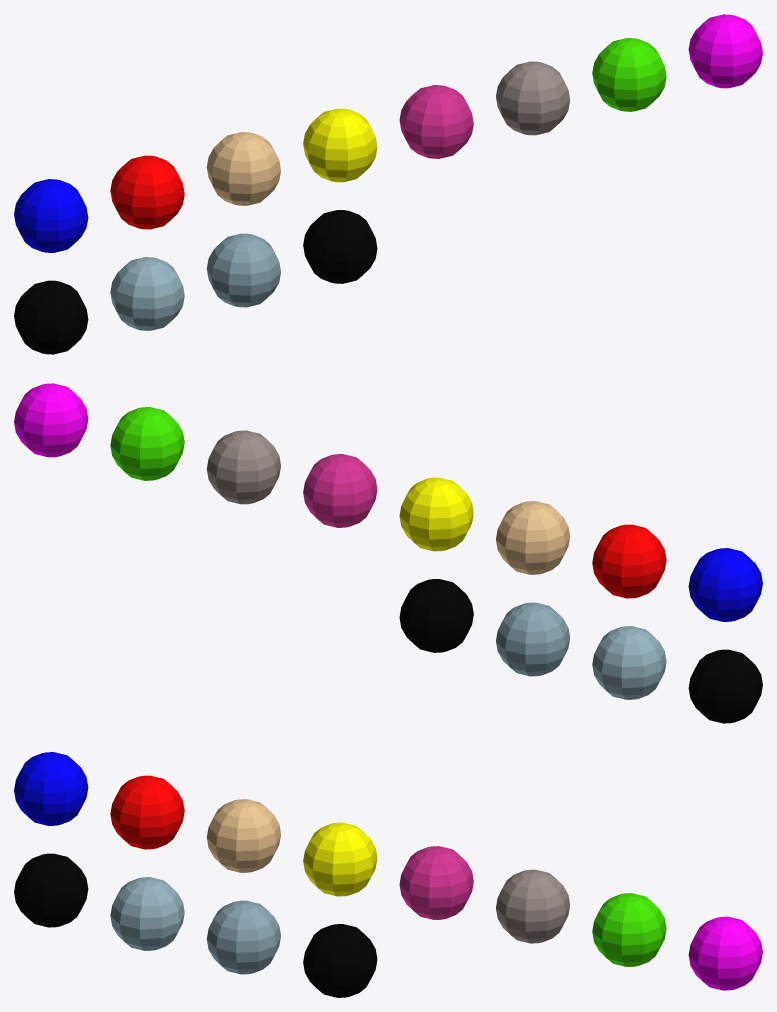
Rendered from shader_test.dae.
3 views of the same model, one above another, from view 1: azimuth 30°, elevation 25°; view 2: azimuth 150°, elevation 25°; view 3: azimuth 330°, elevation 25° (orthographic).
Parts seen in each view (by area): view 1: pSphere2, pSphere6, pSphere11, pSphere8, pSphere9, pSphere4, pSphere1, pSphere5, pSphere12, pSphere7, pSphere10, pSphere3; view 2: pSphere2, pSphere6, pSphere11, pSphere8, pSphere9, pSphere4, pSphere1, pSphere5, pSphere12, pSphere7, pSphere10, pSphere3; view 3: pSphere2, pSphere8, pSphere11, pSphere6, pSphere4, pSphere9, pSphere12, pSphere1, pSphere5, pSphere10, pSphere7, pSphere3.
Part boxes in pixels (bbox=[...]): pSphere2: bbox=[110, 155, 184, 229]; pSphere6: bbox=[496, 61, 570, 135]; pSphere11: bbox=[206, 233, 280, 307]; pSphere8: bbox=[688, 14, 762, 88]; pSphere9: bbox=[14, 280, 88, 354]; pSphere4: bbox=[303, 108, 377, 182]; pSphere1: bbox=[14, 179, 88, 252]; pSphere5: bbox=[399, 85, 473, 158]; pSphere12: bbox=[303, 210, 377, 283]; pSphere7: bbox=[592, 38, 666, 111]; pSphere10: bbox=[110, 257, 184, 330]; pSphere3: bbox=[206, 132, 280, 205]; pSphere2: bbox=[592, 524, 666, 598]; pSphere6: bbox=[206, 430, 280, 504]; pSphere11: bbox=[496, 602, 570, 676]; pSphere8: bbox=[14, 383, 88, 457]; pSphere9: bbox=[688, 649, 762, 723]; pSphere4: bbox=[399, 477, 473, 551]; pSphere1: bbox=[688, 548, 762, 621]; pSphere5: bbox=[303, 454, 377, 527]; pSphere12: bbox=[399, 579, 473, 652]; pSphere7: bbox=[110, 407, 184, 480]; pSphere10: bbox=[592, 626, 666, 699]; pSphere3: bbox=[496, 501, 570, 574]; pSphere2: bbox=[110, 775, 184, 849]; pSphere8: bbox=[688, 916, 762, 990]; pSphere11: bbox=[206, 900, 280, 974]; pSphere6: bbox=[496, 869, 570, 943]; pSphere4: bbox=[303, 822, 377, 896]; pSphere9: bbox=[14, 853, 88, 927]; pSphere12: bbox=[303, 924, 377, 997]; pSphere1: bbox=[14, 752, 88, 825]; pSphere5: bbox=[399, 846, 473, 919]; pSphere10: bbox=[110, 877, 184, 950]; pSphere7: bbox=[592, 893, 666, 966]; pSphere3: bbox=[206, 799, 280, 872].
Bounding box in the file's own units: 22.83 × 4.99 × 1.9.
